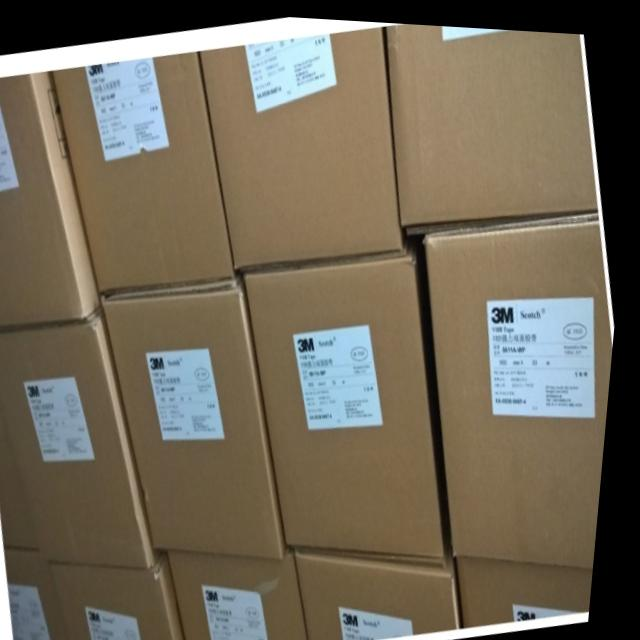box: (427, 210, 618, 563), (248, 249, 456, 556), (198, 23, 411, 272), (108, 280, 297, 555), (52, 52, 242, 295), (384, 19, 601, 231), (0, 306, 166, 566), (0, 72, 107, 333), (304, 545, 474, 640), (177, 544, 321, 640), (60, 548, 198, 640), (465, 551, 603, 621), (0, 380, 49, 551), (16, 551, 81, 640)
